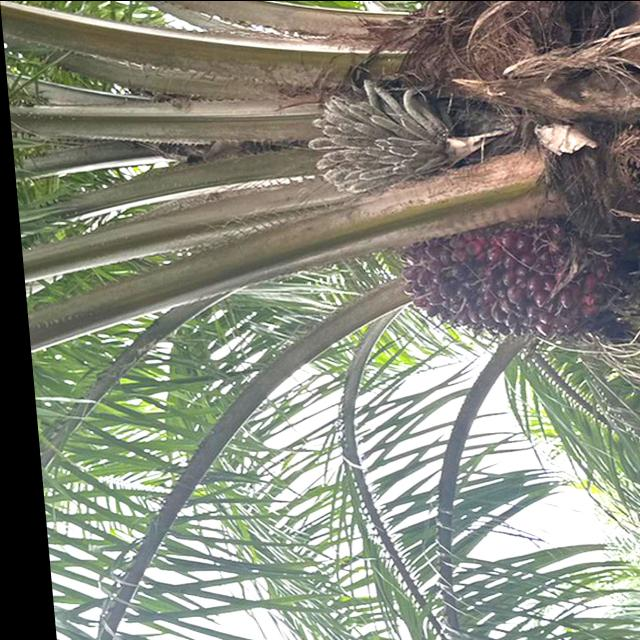ripe: (372, 208, 622, 356)
